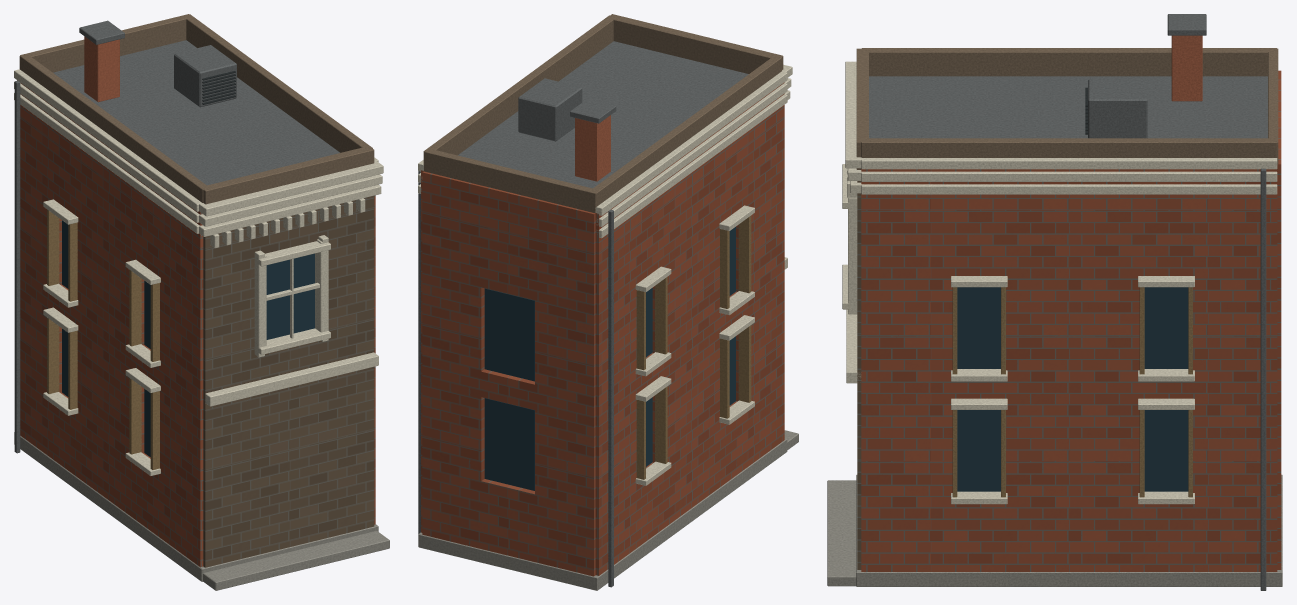
File: WHSE13_lod1.glb
The picture shows the model from 3 angles, left to right: view 1: azimuth 30°, elevation 25°; view 2: azimuth 150°, elevation 25°; view 3: azimuth 270°, elevation 25°; orthographic projection. The views are drawn at different scales.
Parts seen in each view (by area): view 1: WHSE13_LOD1; view 2: WHSE13_LOD1; view 3: WHSE13_LOD1.
Boxes of the visible parts, x1,y1,x2,y2 form: WHSE13_LOD1: [14, 14, 389, 590]; WHSE13_LOD1: [418, 14, 798, 590]; WHSE13_LOD1: [827, 14, 1282, 590].
Bounding box in the file's own units: 3.71 × 7.85 × 6.57.
11 materials, 9 textured.
